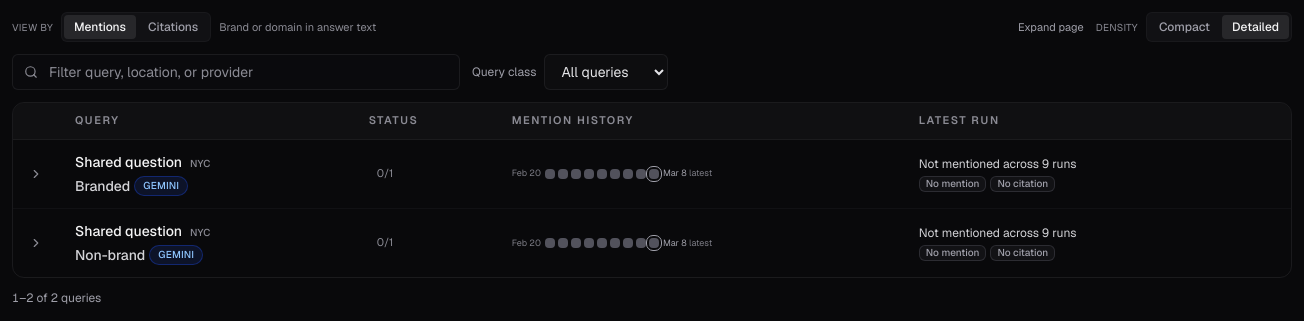
Scenario: keeps distinct classes separate for the same query and location
The image size is (1304, 321).
Expected: the text "Shared question" is shown 2 times, 75,153 -> 182,171; 75,222 -> 182,240
Select "Branded" in the dropdown labelled "Query class" at (606, 72), box 544,54 -> 668,90
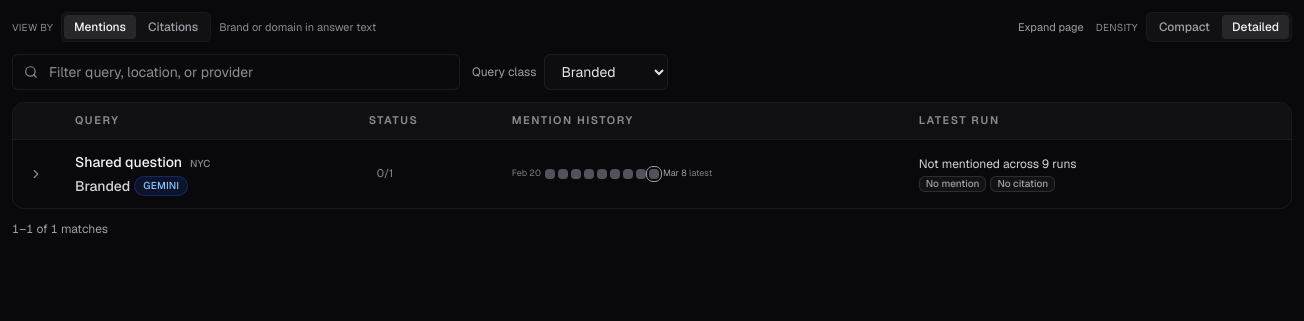
Expected: the text "Shared question" is shown once, 75,153 -> 182,171
